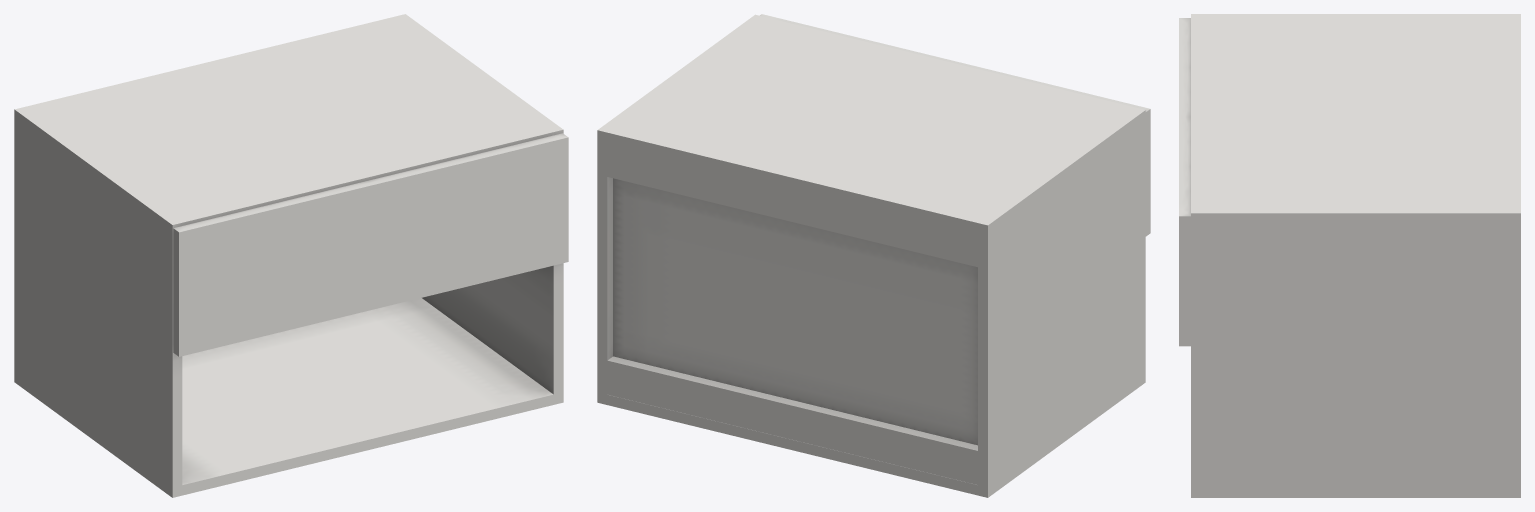
File: floating-vanity-open.glb
The picture shows the model from 3 angles, left to right: view 1: azimuth 30°, elevation 25°; view 2: azimuth 150°, elevation 25°; view 3: azimuth 270°, elevation 25°; orthographic projection. The views are drawn at different scales.
Parts seen in each view (by area): view 1: part_0; view 2: part_0; view 3: part_0.
Part boxes in pixels (x1,y1,x2,y2): part_0: [14, 14, 568, 497]; part_0: [597, 14, 1150, 497]; part_0: [1179, 14, 1520, 497].
Size of the model in its own units: 0.762 by 0.508 by 0.5527.
1 material, 1 textured.
